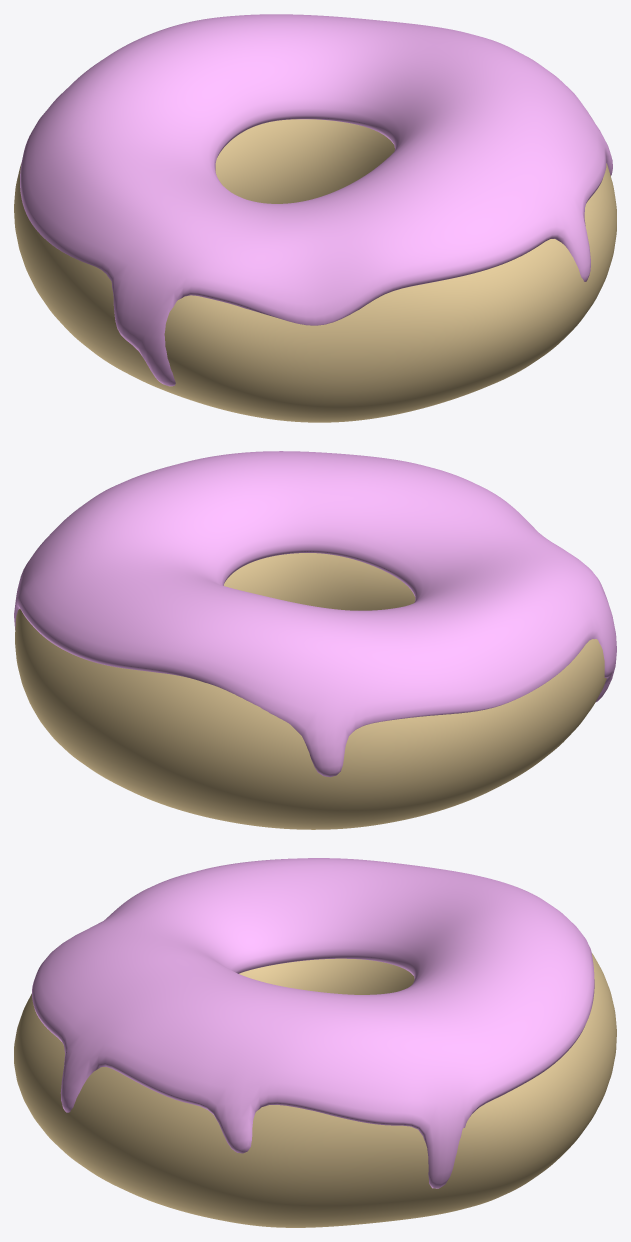
The model's file is tor.fbx.
The picture shows the model from 3 angles, top to bottom: view 1: azimuth 30°, elevation 25°; view 2: azimuth 150°, elevation 25°; view 3: azimuth 270°, elevation 25°; orthographic projection. The views are drawn at different scales.
Parts seen in each view (by area): view 1: Torus.001, Torus; view 2: Torus.001, Torus; view 3: Torus.001, Torus.
Boxes of the visible parts, x1,y1,x2,y2 form: Torus.001: [20, 14, 612, 386]; Torus: [14, 119, 616, 422]; Torus.001: [14, 451, 616, 777]; Torus: [15, 553, 606, 829]; Torus.001: [32, 858, 594, 1188]; Torus: [14, 953, 616, 1227].
Size of the model in its own units: 298 by 122 by 305.
